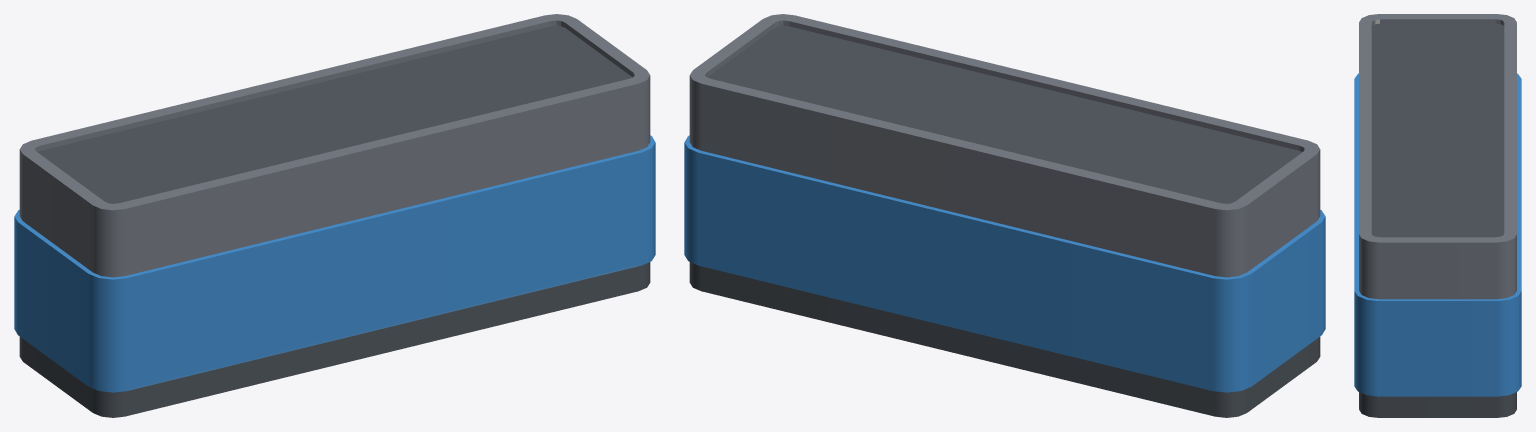
Rendered from LabPlantBoxA3.fbx.
3 renders of one model, left to right at view 1: azimuth 30°, elevation 25°; view 2: azimuth 150°, elevation 25°; view 3: azimuth 270°, elevation 25°, orthographic. The views are drawn at different scales.
Parts seen in each view (by area): view 1: LabPlantBoxA3; view 2: LabPlantBoxA3; view 3: LabPlantBoxA3.
Boxes of the visible parts, box(x1,y1,x2,y2) form: LabPlantBoxA3: box(14, 14, 655, 417); LabPlantBoxA3: box(684, 14, 1325, 417); LabPlantBoxA3: box(1354, 14, 1521, 417).
Bounding box in the file's own units: 210 × 74.04 × 63.87.
